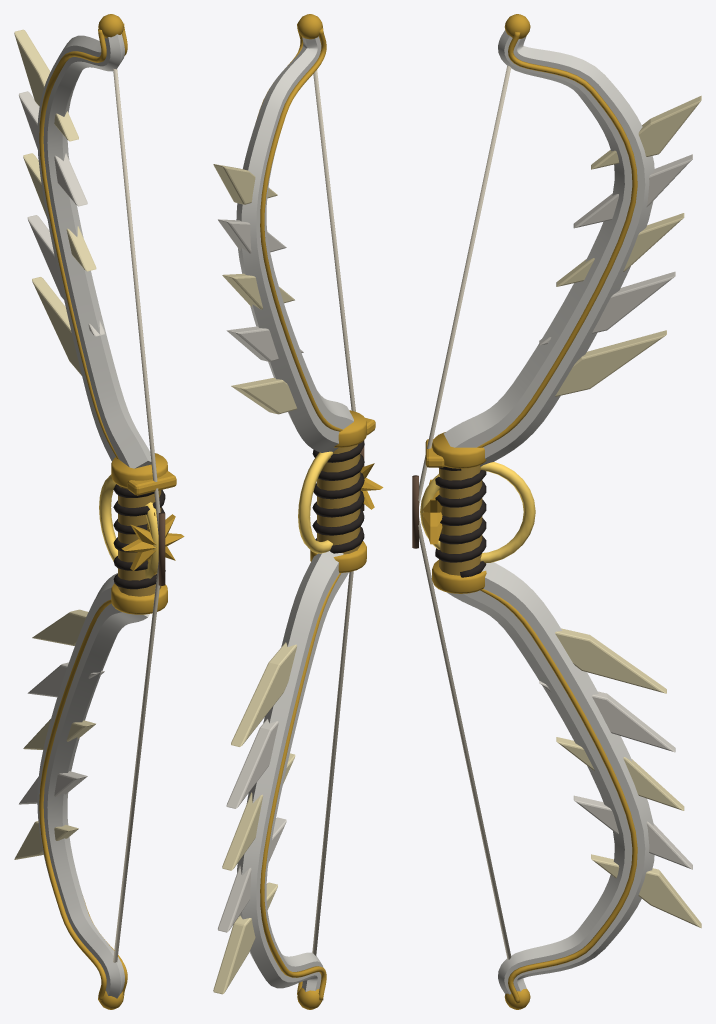
The model's file is bow_heavens.fbx.
The picture shows the model from 3 angles, left to right: view 1: azimuth 30°, elevation 25°; view 2: azimuth 150°, elevation 25°; view 3: azimuth 270°, elevation 25°; orthographic projection.
Visible parts, largest first — view 1: bow_heavens; view 2: bow_heavens; view 3: bow_heavens.
Boxes of the visible parts, bbox=[...] form: bow_heavens: bbox=[14, 14, 184, 1009]; bow_heavens: bbox=[213, 14, 383, 1009]; bow_heavens: bbox=[412, 14, 701, 1009].
Bounding box in the file's own units: 0.08 × 1.27 × 0.335.
